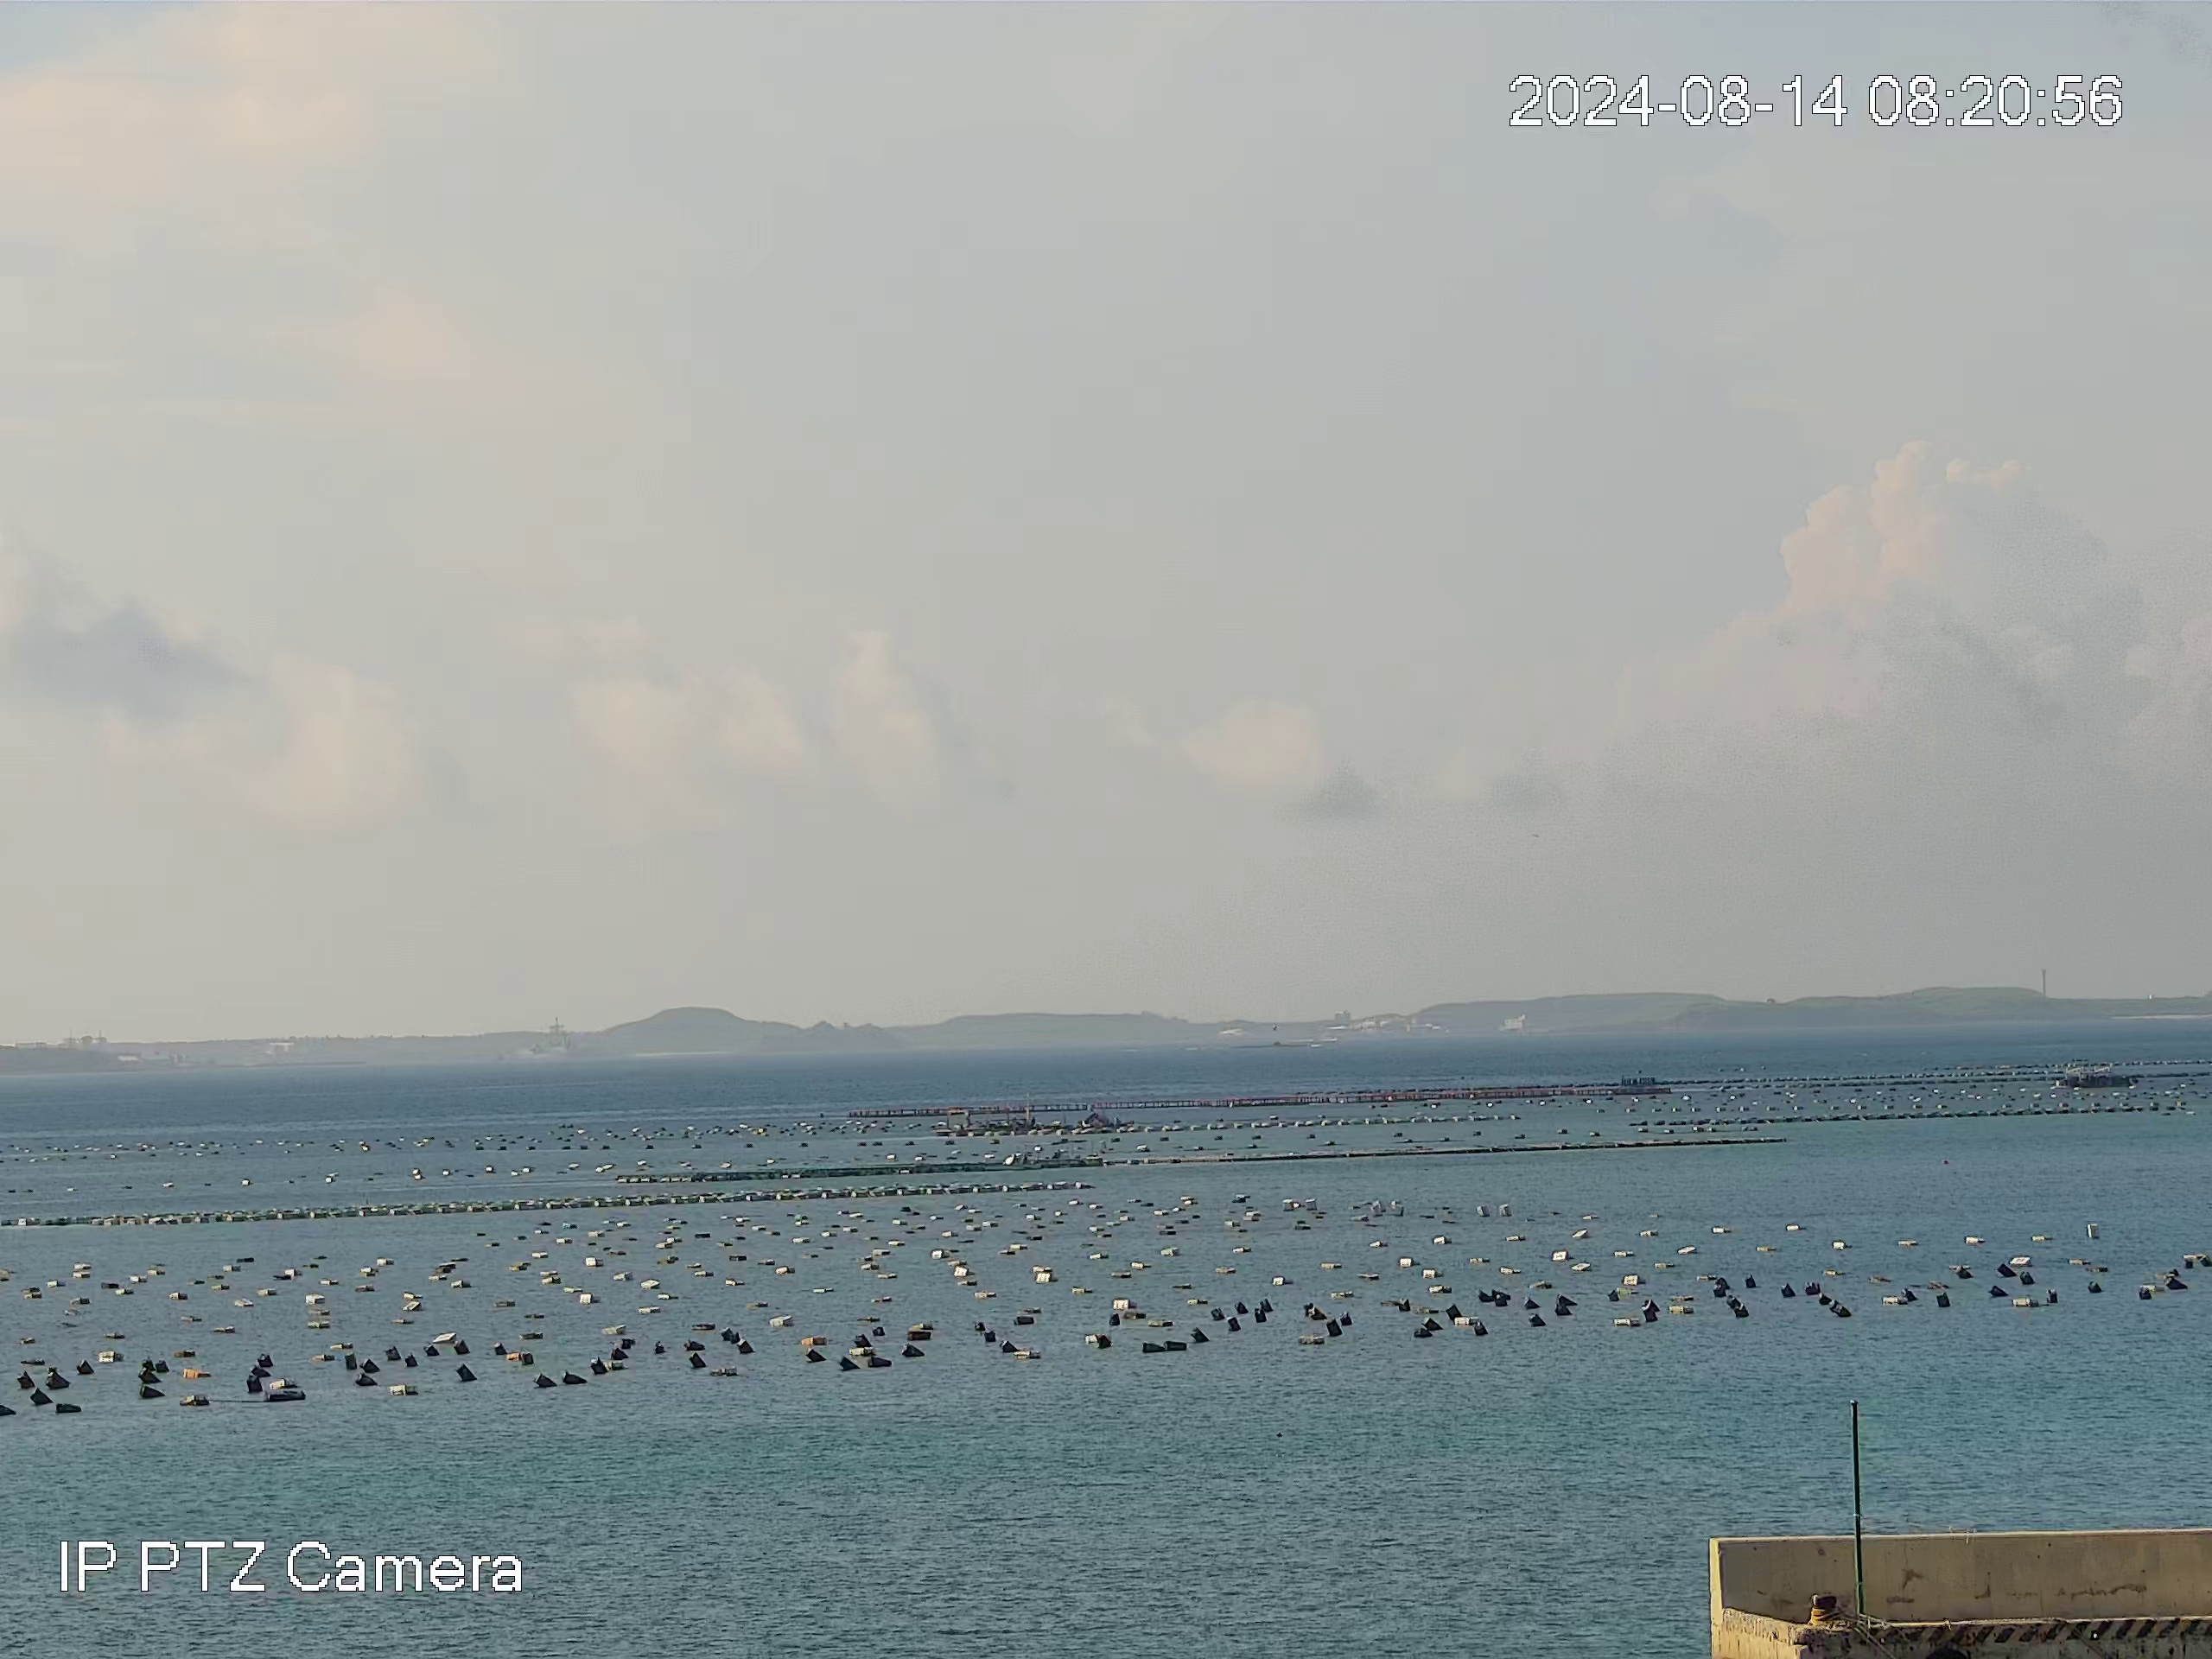boat: (2054, 1056, 2139, 1093)
